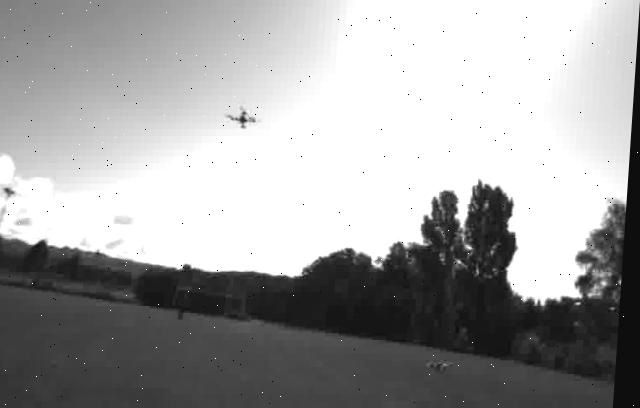drone: (208, 94, 271, 144)
